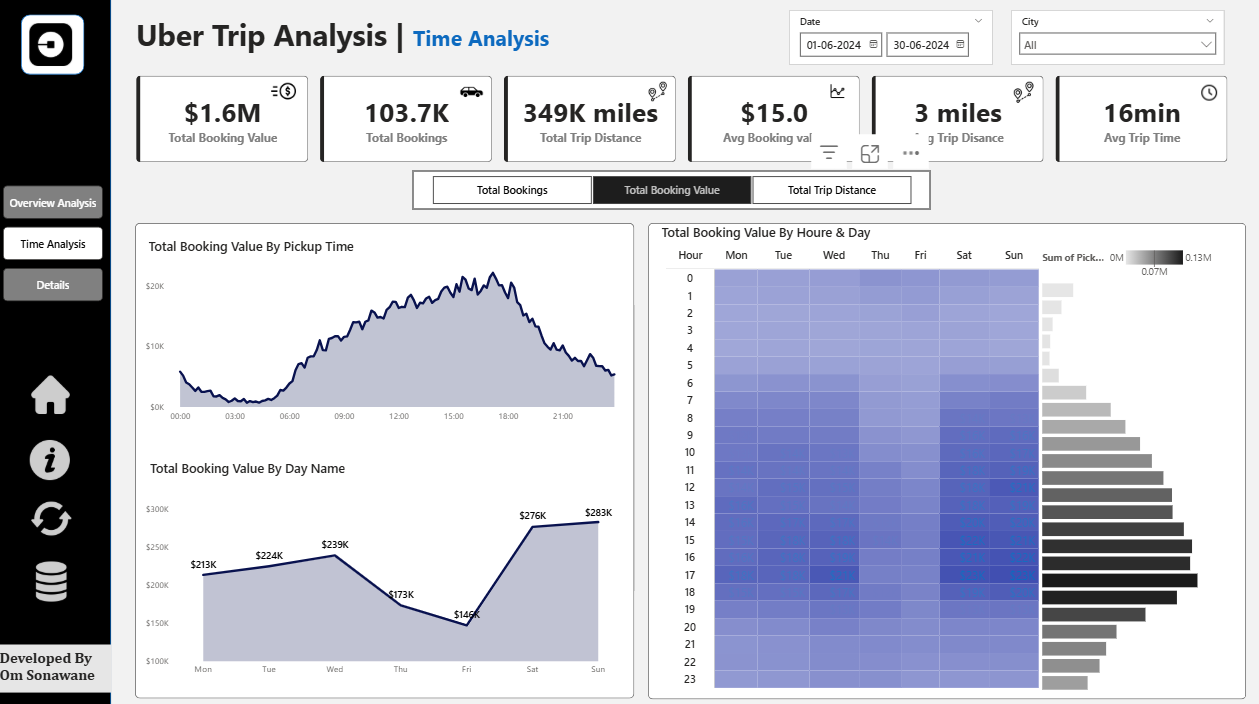

What the dashboard file says about the page in this screenshot:
{"tool":"powerbi","page":{"name":"Time Analysis","canvas":[1600,900],"ordinal":1},"visuals":[{"type":"shape","box":[8.7,0,142.1,900],"z":0},{"type":"textbox","box":[178,15.3,602,68],"z":1000},{"type":"cardVisual","fields":{"Data":["Trip Details.Total Booking Amount","Trip Details.Total Bookings","Trip Details.Total Trip Distance","Trip Details.Avg Booking Amount","Trip Details.Avg Trip Disance","Trip Details.Avg Trip Time"]},"box":[178,92.7,1391.3,119.3],"z":2000},{"type":"image","box":[325.7,96.2,87.4,41.5],"z":3000},{"type":"image","box":[581.4,98.4,50.3,39.3],"z":4000},{"type":"image","box":[815.3,100.5,52.5,35],"z":5000},{"type":"image","box":[1272.1,100.5,63.4,37.2],"z":6000},{"type":"image","box":[1508.2,104.9,56.8,30.6],"z":7000},{"type":"image","box":[1033.9,102.7,69.9,30.6],"z":8000},{"type":"shape","box":[181.7,283.9,630,600],"z":9000},{"type":"slicer","fields":{"Values":["Dynamic Measure .Dynamic Measure "]},"box":[532.5,218.1,653.1,48.8],"z":10000},{"type":"slicer","fields":{"Values":["Calendar Table.Date"]},"box":[1006.7,15.3,257.3,69.3],"z":11000},{"type":"slicer","fields":{"Values":["Location Table.City"]},"box":[1286.7,15.3,269.3,69.3],"z":12000},{"type":"areaChart","fields":{"Y":["Trip Details.Total Trip Distance Measure"],"Category":["Trip Details.Pickup Hour (HH MM SS) (bins)"]},"box":[188.3,310,615,233.3],"z":13000},{"type":"cardVisual","fields":{"Data":["Trip Details.Title For By Pickup Time"]},"box":[181.7,275.5,315.5,53.9],"z":14000},{"type":"areaChart","fields":{"Y":["Trip Details.Total Trip Distance Measure"],"Category":["Calendar Table.Day Name"]},"box":[188.3,630,615,233.3],"z":15000},{"type":"cardVisual","fields":{"Data":["Trip Details.Title For By Day Name"]},"box":[183.7,557.1,313.5,53.9],"z":16000},{"type":"shape","box":[828.6,283.5,754.7,601],"z":17000},{"type":"pivotTable","fields":{"Values":["Trip Details.Total Trip Distance Measure"],"Rows":["Trip Details.Pickup Hour"],"Columns":["Calendar Table.Day Name"]},"box":[846,308,524,572],"z":18000},{"type":"barChart","fields":{"Y":["Trip Details.Total Trip Distance Measure"],"Category":["Trip Details.Pickup Hour"]},"box":[1321.8,311,247.6,589],"z":19000},{"type":"cardVisual","fields":{"Data":["Trip Details.Title For By Houre & Day"]},"box":[828.5,260,315.4,53.8],"z":20000},{"type":"shape","box":[37.1,20,79.9,75.9],"z":21000},{"type":"image","box":[40.2,26.2,70.8,64.6],"z":22000},{"type":"pageNavigator","box":[15.5,236.4,126.4,146.4],"z":23000},{"type":"image","box":[45.9,465.6,59,69.9],"z":24000},{"type":"image","box":[45.9,699.5,61.2,72.1],"z":25000},{"type":"image","box":[43.7,546.4,61.2,72.1],"z":26000},{"type":"image","box":[45.9,620.8,61.2,72.1],"z":27000},{"type":"textbox","box":[5.7,815.8,145.7,60.6],"z":28001}]}

Visuals, with their boxes on the page's 1600x900 design canvas (x1, y1, x2, y2). These are canvas units, not pixel positions in the 1259x704 screenshot, which may show the page scaled, cropped or inside an application window:
shape: 9, 0, 151, 900
textbox: 178, 15, 780, 83
cardVisual - Trip Details.Total Booking Amount x Trip Details.Total Bookings: 178, 93, 1569, 212
image: 326, 96, 413, 138
image: 581, 98, 632, 138
image: 815, 100, 868, 136
image: 1272, 100, 1336, 138
image: 1508, 105, 1565, 136
image: 1034, 103, 1104, 133
shape: 182, 284, 812, 884
slicer - Dynamic Measure .Dynamic Measure : 532, 218, 1186, 267
slicer - Calendar Table.Date: 1007, 15, 1264, 85
slicer - Location Table.City: 1287, 15, 1556, 85
areaChart - Trip Details.Total Trip Distance Measure x Trip Details.Pickup Hour (HH MM SS) (bins): 188, 310, 803, 543
cardVisual - Trip Details.Title For By Pickup Time: 182, 276, 497, 329
areaChart - Trip Details.Total Trip Distance Measure x Calendar Table.Day Name: 188, 630, 803, 863
cardVisual - Trip Details.Title For By Day Name: 184, 557, 497, 611
shape: 829, 284, 1583, 884
pivotTable - Trip Details.Total Trip Distance Measure x Trip Details.Pickup Hour: 846, 308, 1370, 880
barChart - Trip Details.Total Trip Distance Measure x Trip Details.Pickup Hour: 1322, 311, 1569, 900
cardVisual - Trip Details.Title For By Houre & Day: 828, 260, 1144, 314
shape: 37, 20, 117, 96
image: 40, 26, 111, 91
pageNavigator: 16, 236, 142, 383
image: 46, 466, 105, 536
image: 46, 700, 107, 772
image: 44, 546, 105, 618
image: 46, 621, 107, 693
textbox: 6, 816, 151, 876
